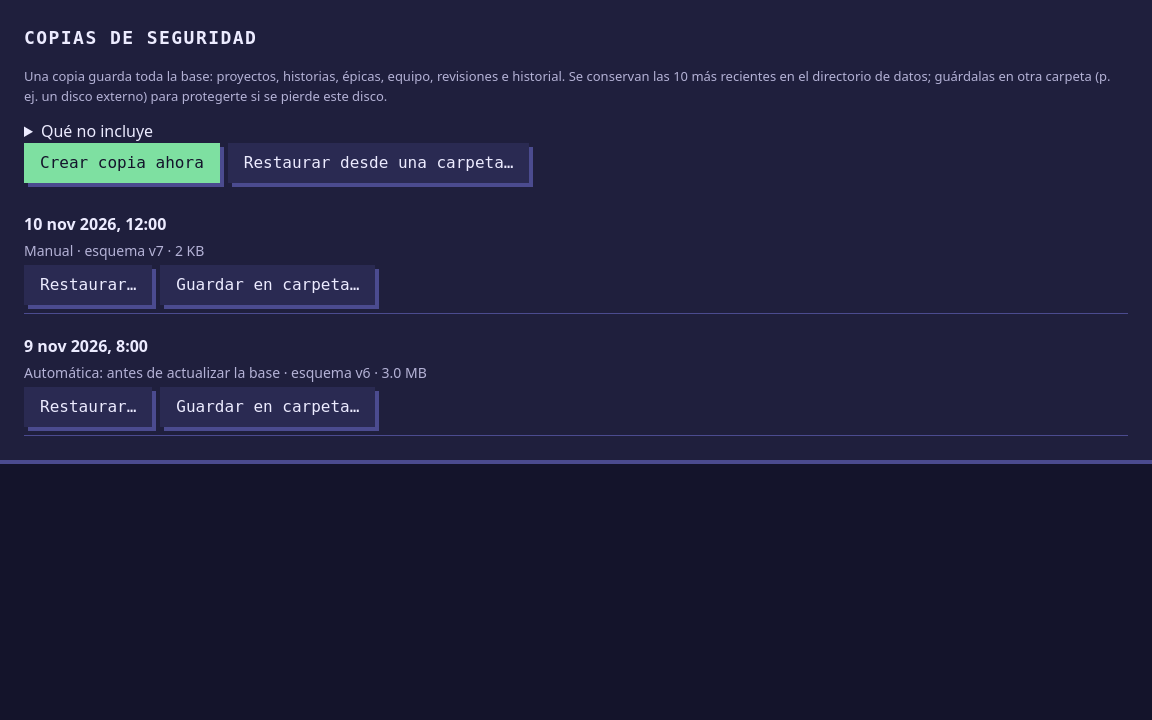
BackupPanel › restaurar pide confirmación accesible; cancelar o Escape no hacen nada
Check: the text "Manual · esquema v7 · 2 KB" is shown, box [24,241,204,260]
Click the button "Restaurar…" below "10 nov 2026, 12:00" at (88, 285), box [24,265,152,305]
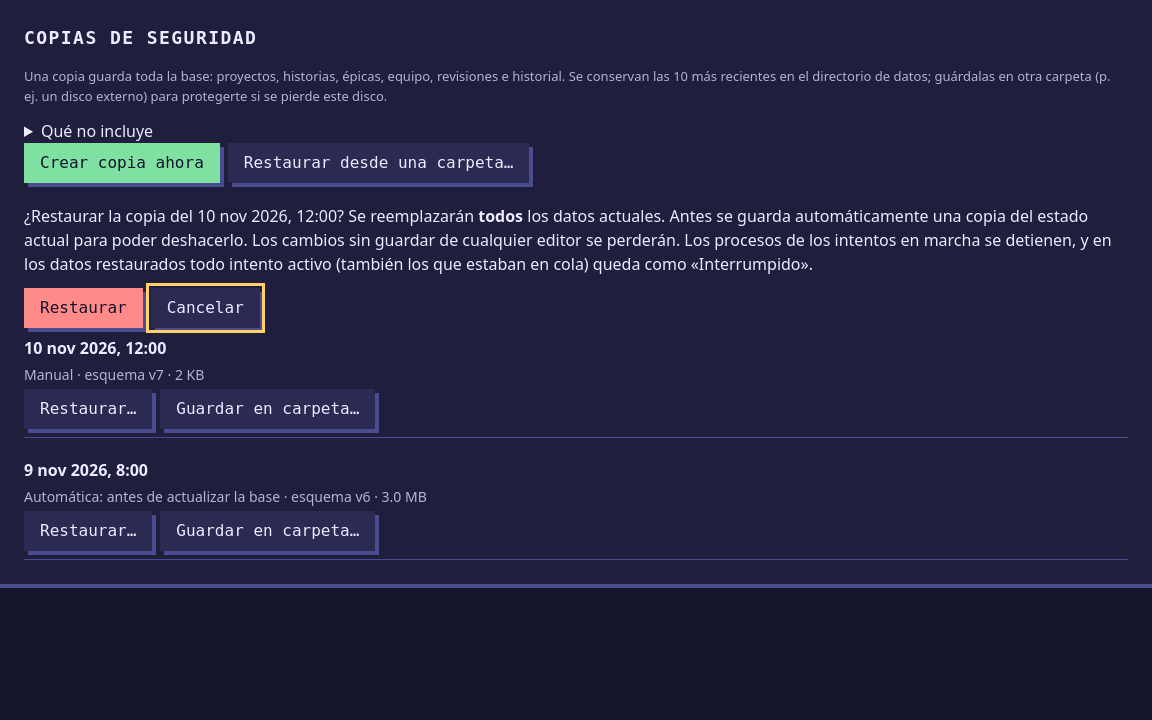
Check: the dialog named "Se reemplazarán todos los datos actuales" shows "Los procesos de los intentos en marcha se detienen, y en los datos restaurados todo intento activo (también los que estaban en cola) queda como «Interrumpido».", box [24,205,1112,275]
Click the button "Cancelar" at (205, 308), box [151,288,260,328]
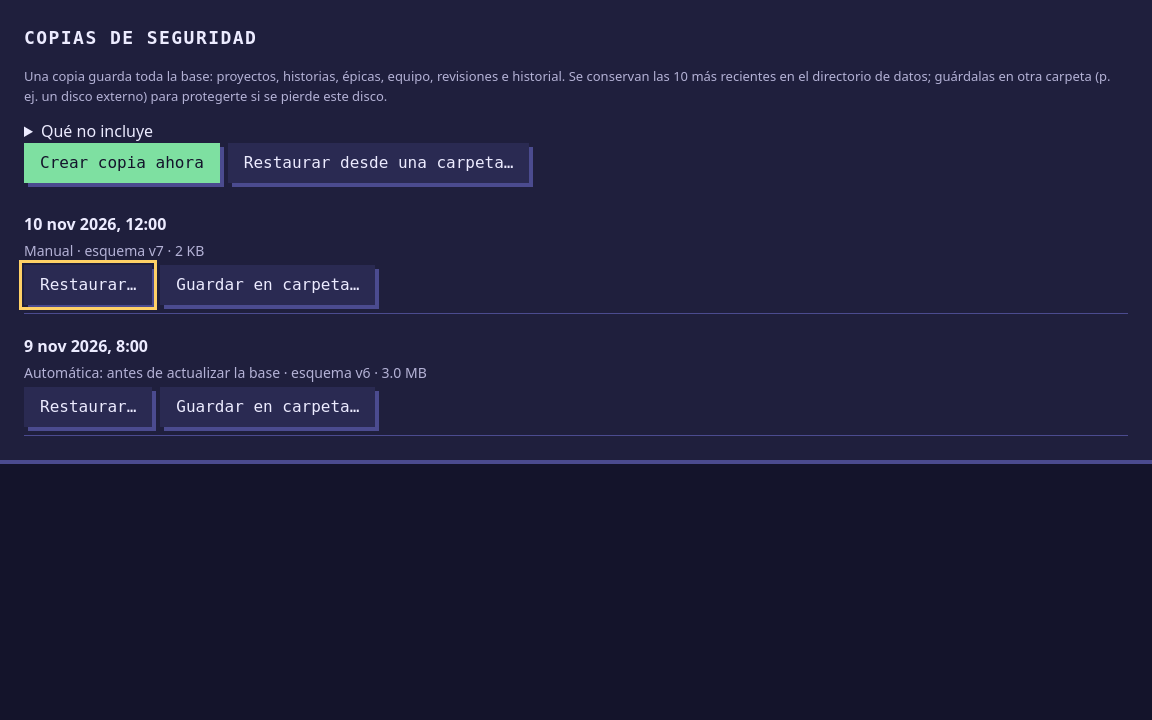
Click the button "Restaurar…" below "10 nov 2026, 12:00" at (88, 285), box [24,265,152,305]
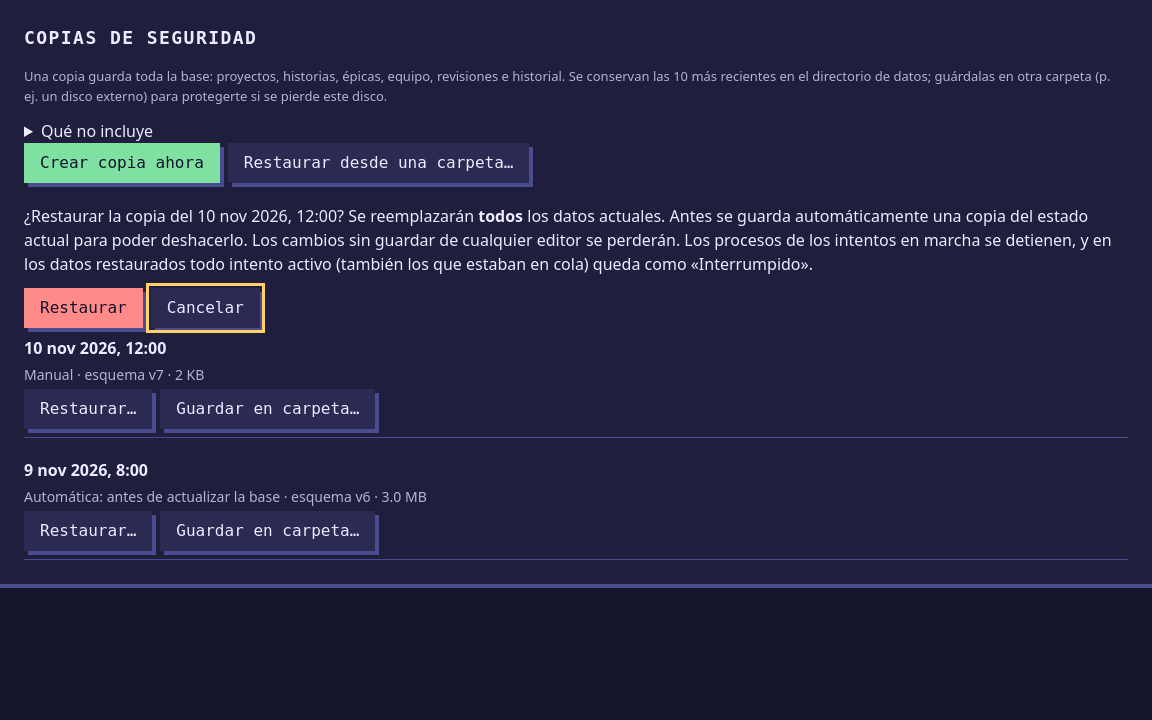
Press Escape
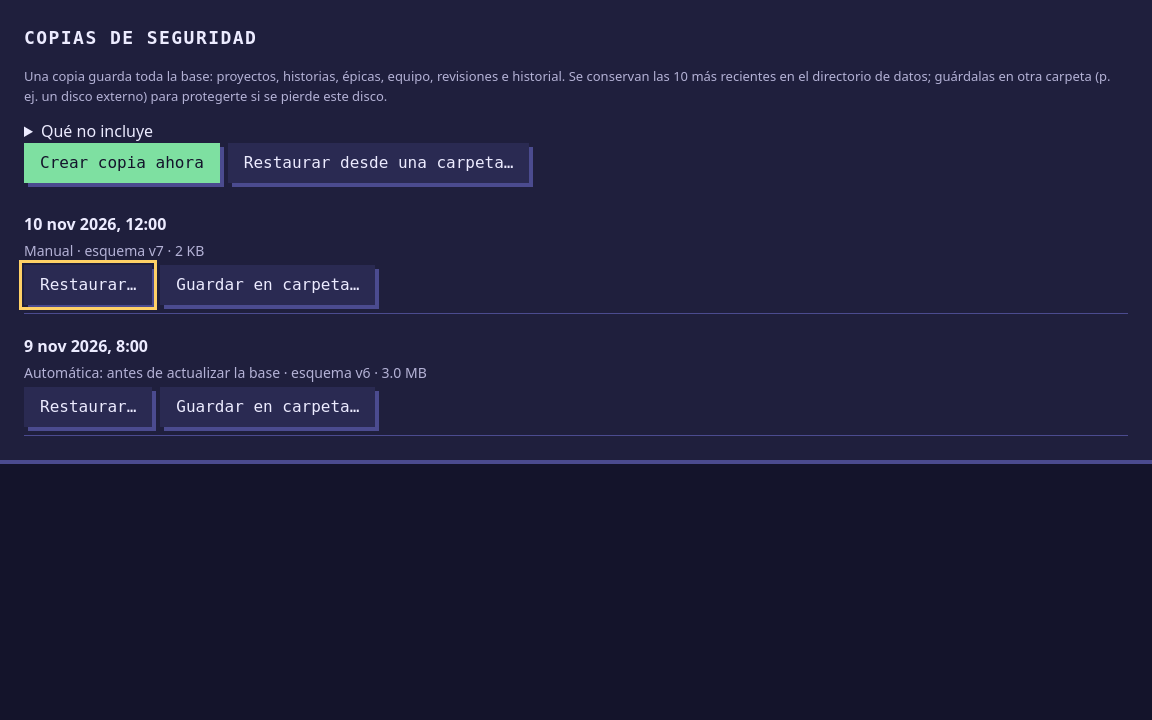
Check: the dialog is gone
